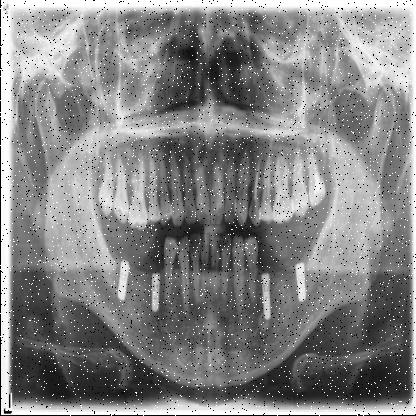ITI: (116, 260, 129, 302), (260, 274, 270, 320), (150, 272, 160, 314), (296, 262, 306, 302)
